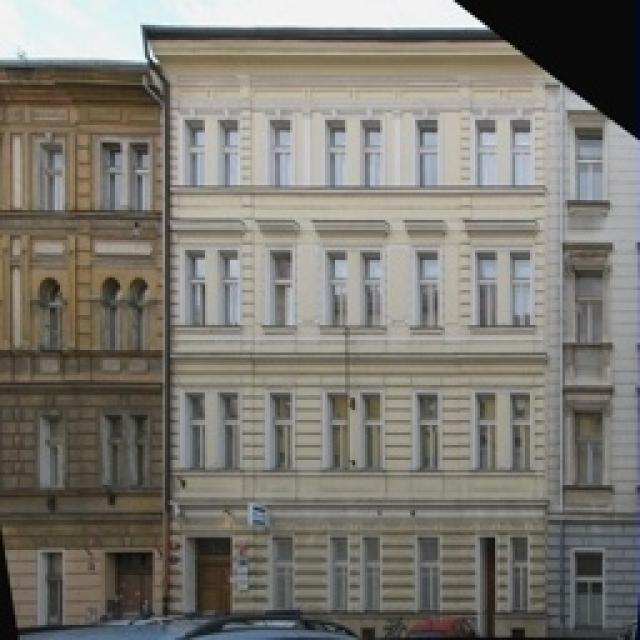building: (170, 0, 640, 640), (3, 0, 165, 635)
